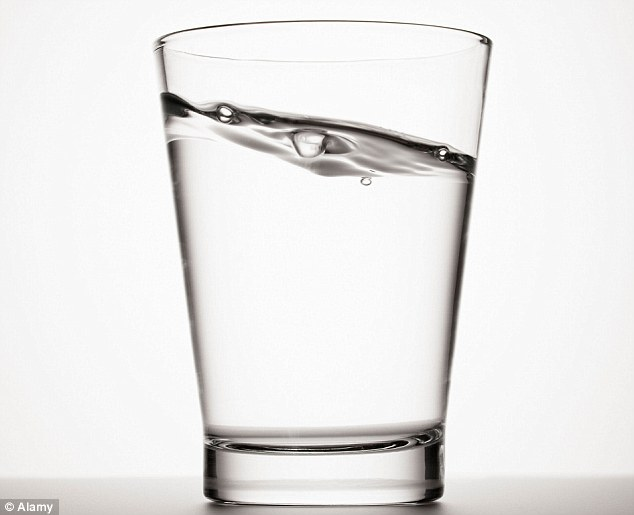glass of water: (146, 24, 495, 509)
